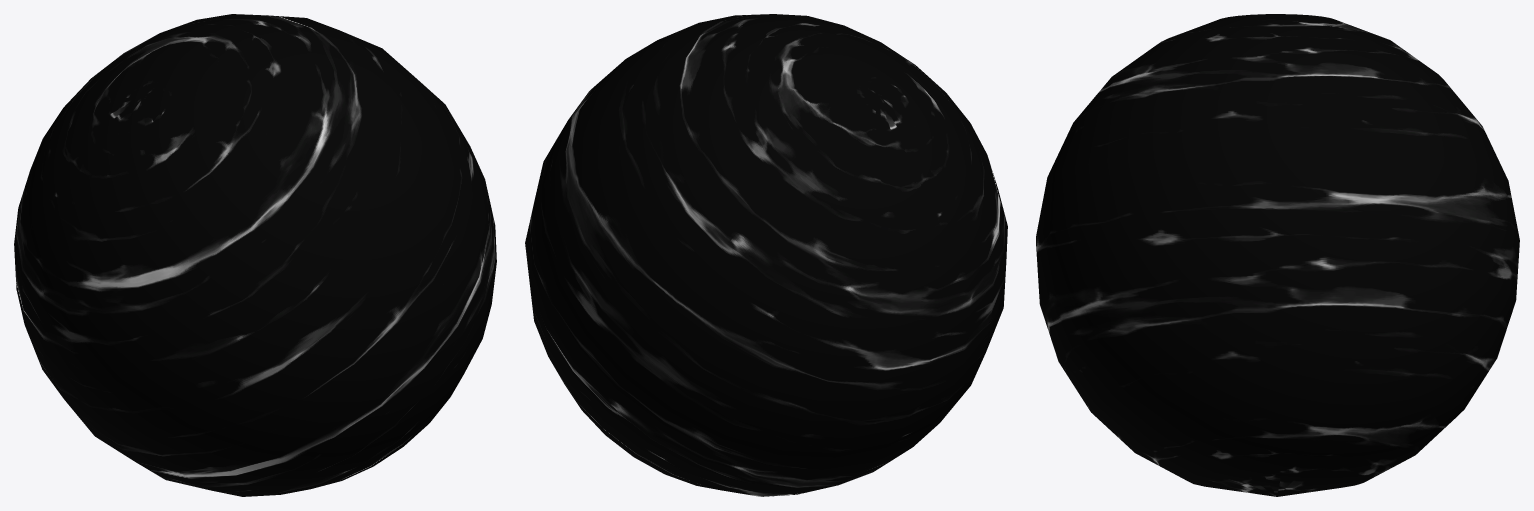
Rendered from SpawnEffect구.fbx.
3 renders of one model, left to right at view 1: azimuth 30°, elevation 25°; view 2: azimuth 150°, elevation 25°; view 3: azimuth 270°, elevation 25°, orthographic.
Parts seen in each view (by area): view 1: qiu0wenli; view 2: qiu0wenli; view 3: qiu0wenli.
Part boxes in pixels (x1=…): qiu0wenli: x1=14, y1=14, x2=496, y2=496; qiu0wenli: x1=525, y1=14, x2=1007, y2=496; qiu0wenli: x1=1036, y1=14, x2=1519, y2=496.
Size of the model in its own units: 3.02 by 3.02 by 3.01.
1 material, 1 textured.
